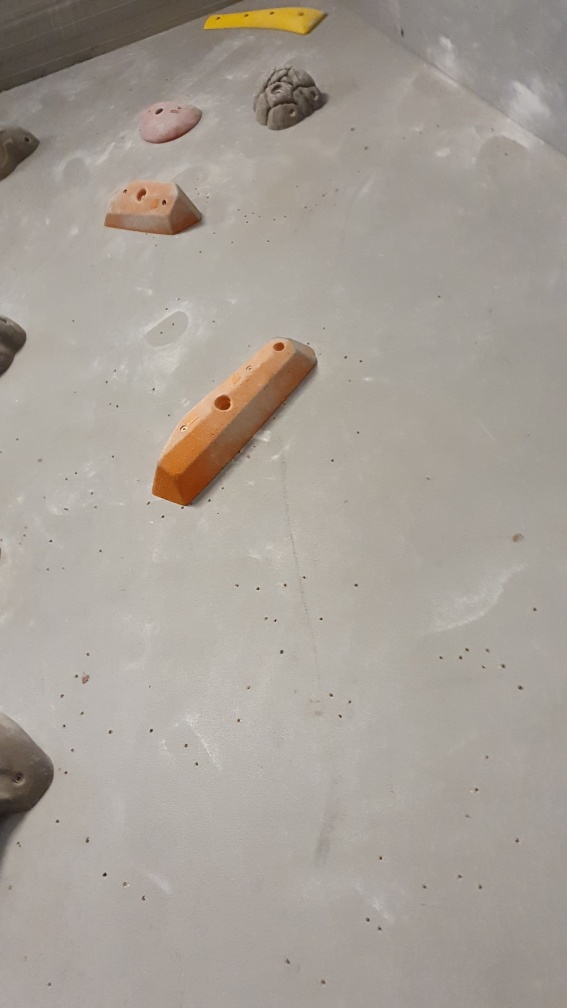Crimp: (195, 7, 336, 38)
Jug: (252, 62, 330, 132)
Pinch: (147, 331, 323, 513), (103, 176, 205, 238)
